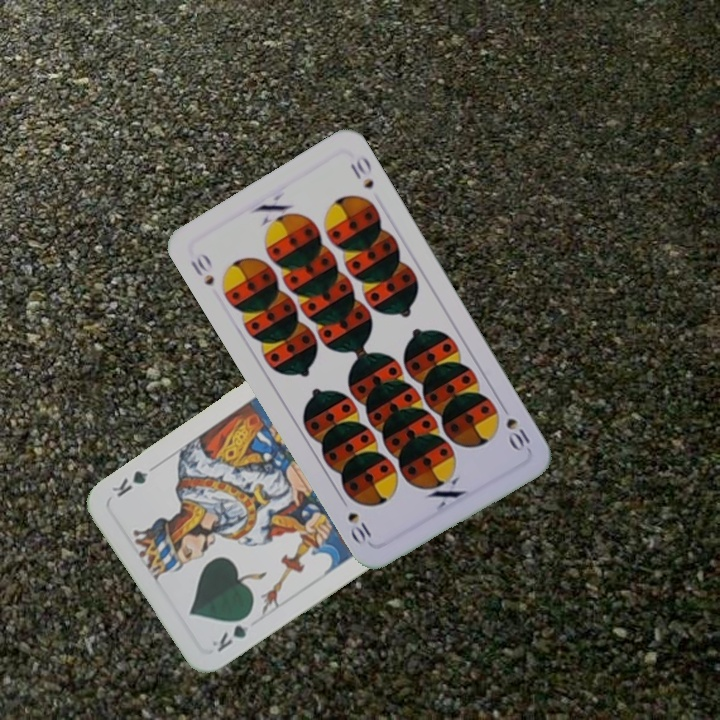GK: (207, 609, 255, 655)
S10: (502, 413, 533, 454), (186, 249, 217, 288)
